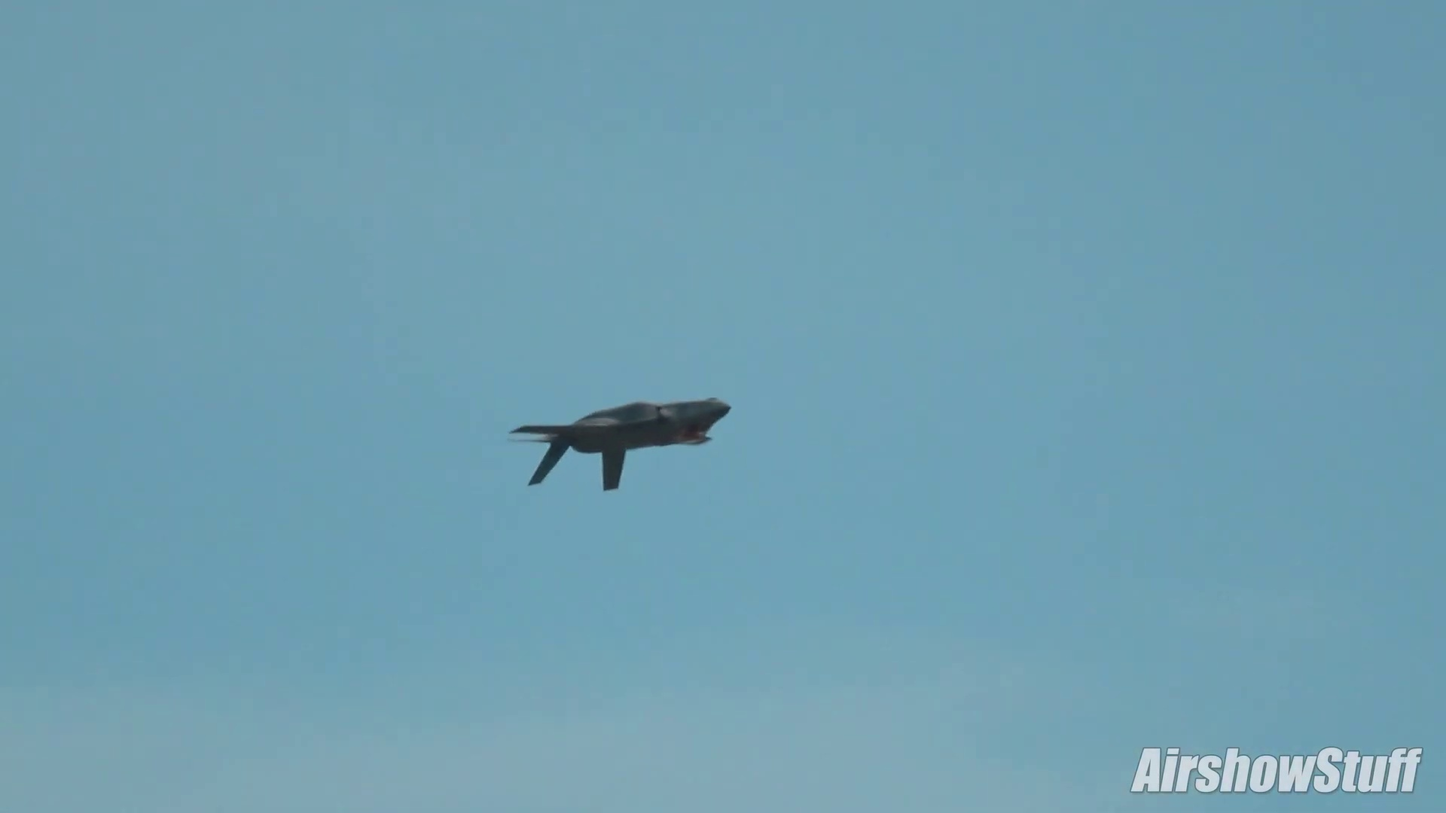F35: (506, 393, 737, 494)
